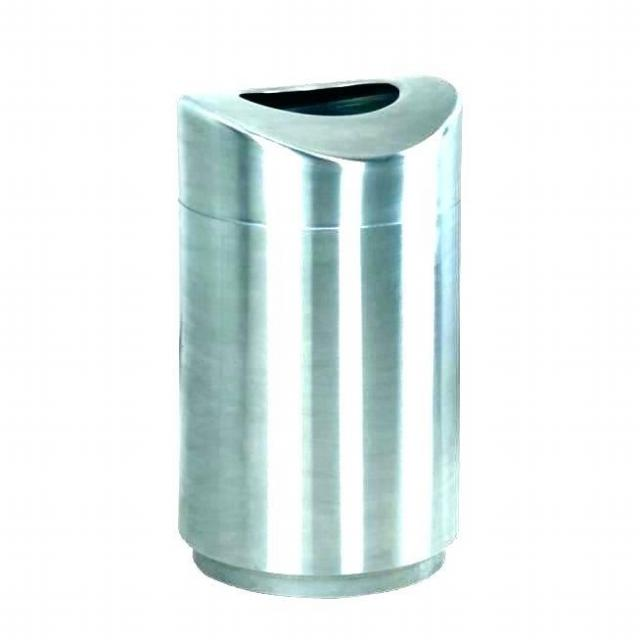metel: (179, 71, 456, 600)
